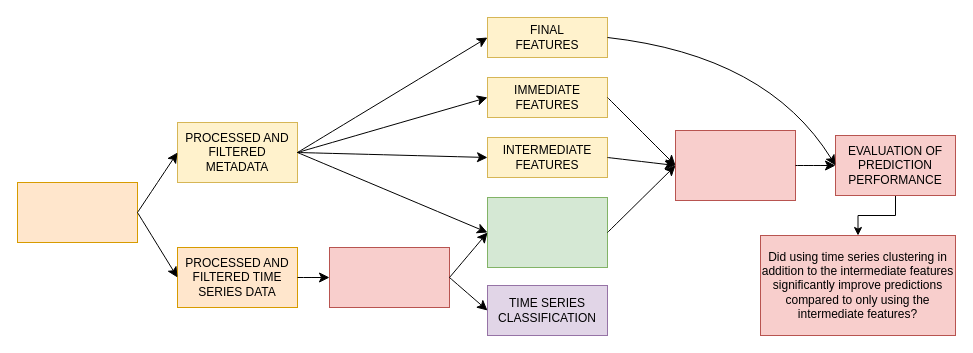
Image size: 973x353. Some labels were removed from this diagram. Here are the shapes that lost their labels. From the top down, the box of each, then its label:
(674, 130, 796, 200): DEEP LEARNING PREDICTION OF EV CHARGING DURATION
(16, 182, 138, 242): RAW EV CHARGING SESSION TIME SERIES DATA
(486, 196, 608, 268): INTERMEDIATE FEATURES + x CLUSTERS FOR n SAMPLES
(328, 246, 450, 308): TIME SERIES CLUSTERING: x CLUSTERS FOR n SAMPLES
